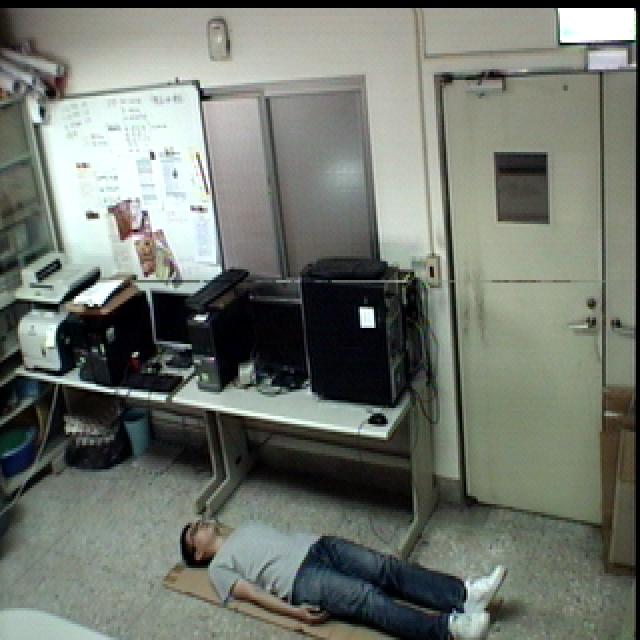lie: (178, 488, 516, 640)
